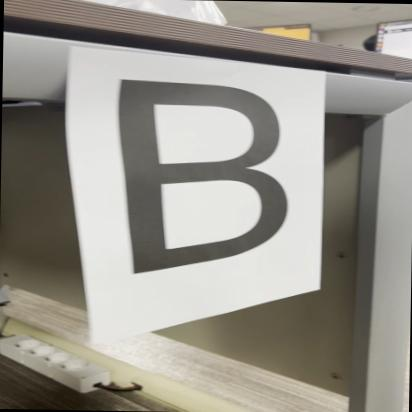seat: (88, 68, 339, 287)
